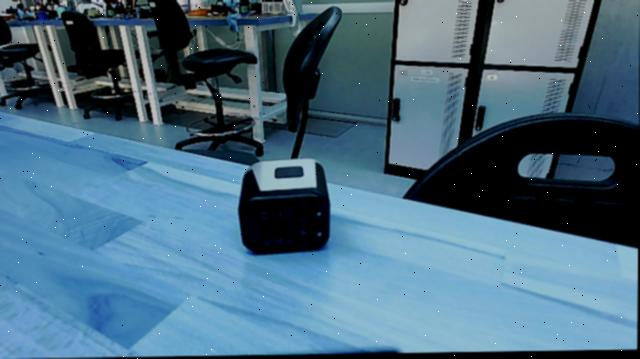adapter: (233, 151, 333, 261)
